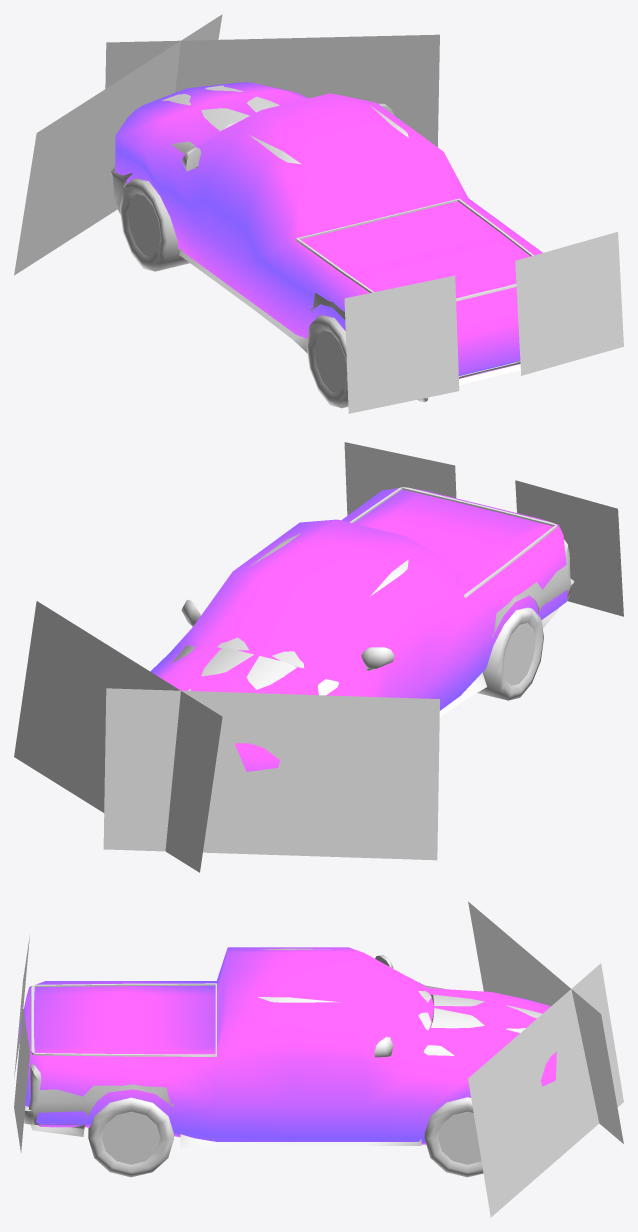
The model's file is DodgeRam.fbx.
3 renders of one model, top to bottom at view 1: azimuth 30°, elevation 25°; view 2: azimuth 150°, elevation 25°; view 3: azimuth 270°, elevation 25°, orthographic. The views are drawn at different scales.
Visible parts, largest first — view 1: DodgeRamProxy, DodgeRamFrontLights, DodgeRamRearLights, DodgeRam, DodgeRamWheel_LF, DodgeRamWheel_LB; view 2: DodgeRamFrontLights, DodgeRamProxy, DodgeRamRearLights, DodgeRam, DodgeRamWheel_LB; view 3: DodgeRamProxy, DodgeRamFrontLights, DodgeRam, DodgeRamWheel_RB, DodgeRamWheel_RF, DodgeRamRearLights.
Part boxes in pixels (x1,y1,x2,y2): DodgeRamProxy: (115,82,542,378); DodgeRamFrontLights: (14,14,439,275); DodgeRamRearLights: (344,231,623,413); DodgeRam: (111,85,533,402); DodgeRamWheel_LF: (119,178,189,271); DodgeRamWheel_LB: (306,315,348,408); DodgeRamFrontLights: (14,601,439,872); DodgeRamProxy: (150,488,567,771); DodgeRamRearLights: (344,442,623,616); DodgeRam: (172,487,574,717); DodgeRamWheel_LB: (477,607,543,700); DodgeRamProxy: (19,947,556,1144); DodgeRamFrontLights: (468,901,623,1217); DodgeRam: (24,948,541,1147); DodgeRamWheel_RB: (88,1097,173,1177); DodgeRamWheel_RF: (424,1097,483,1177); DodgeRamRearLights: (14,935,29,1152).
Bounding box in the file's own units: 3.96 × 5.48 × 1.66.
